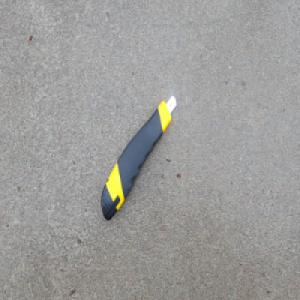Cutter: (99, 93, 177, 222)
